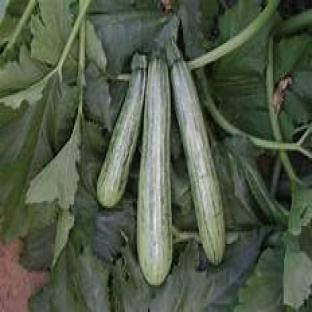Zucchini: (167, 42, 225, 263), (138, 58, 172, 285), (97, 54, 146, 207)
